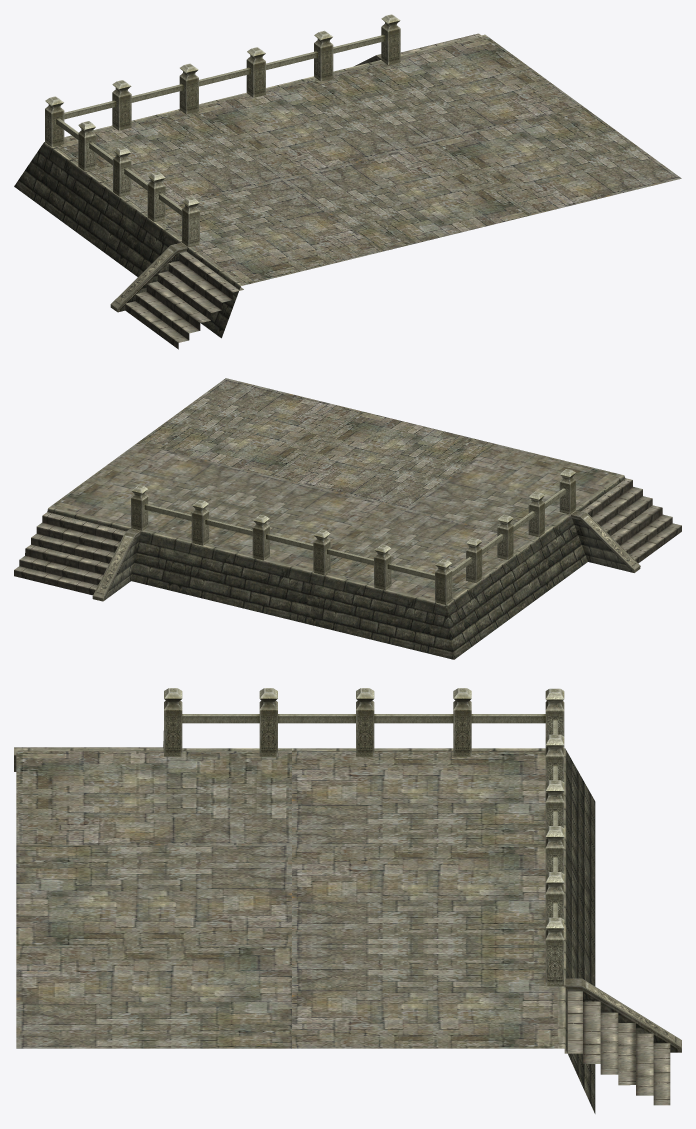
The model's file is ob-tower01_03.fbx.
The picture shows the model from 3 angles, top to bottom: view 1: azimuth 30°, elevation 25°; view 2: azimuth 150°, elevation 25°; view 3: azimuth 270°, elevation 25°; orthographic projection. The views are drawn at different scales.
Parts seen in each view (by area): view 1: ob-013-tower01_04; view 2: ob-013-tower01_04; view 3: ob-013-tower01_04.
Boxes of the visible parts, x1,y1,x2,y2 form: ob-013-tower01_04: (14, 14, 681, 349); ob-013-tower01_04: (14, 378, 681, 659); ob-013-tower01_04: (14, 688, 681, 1113).
Bounding box in the file's own units: 42.51 × 7.32 × 34.46.
